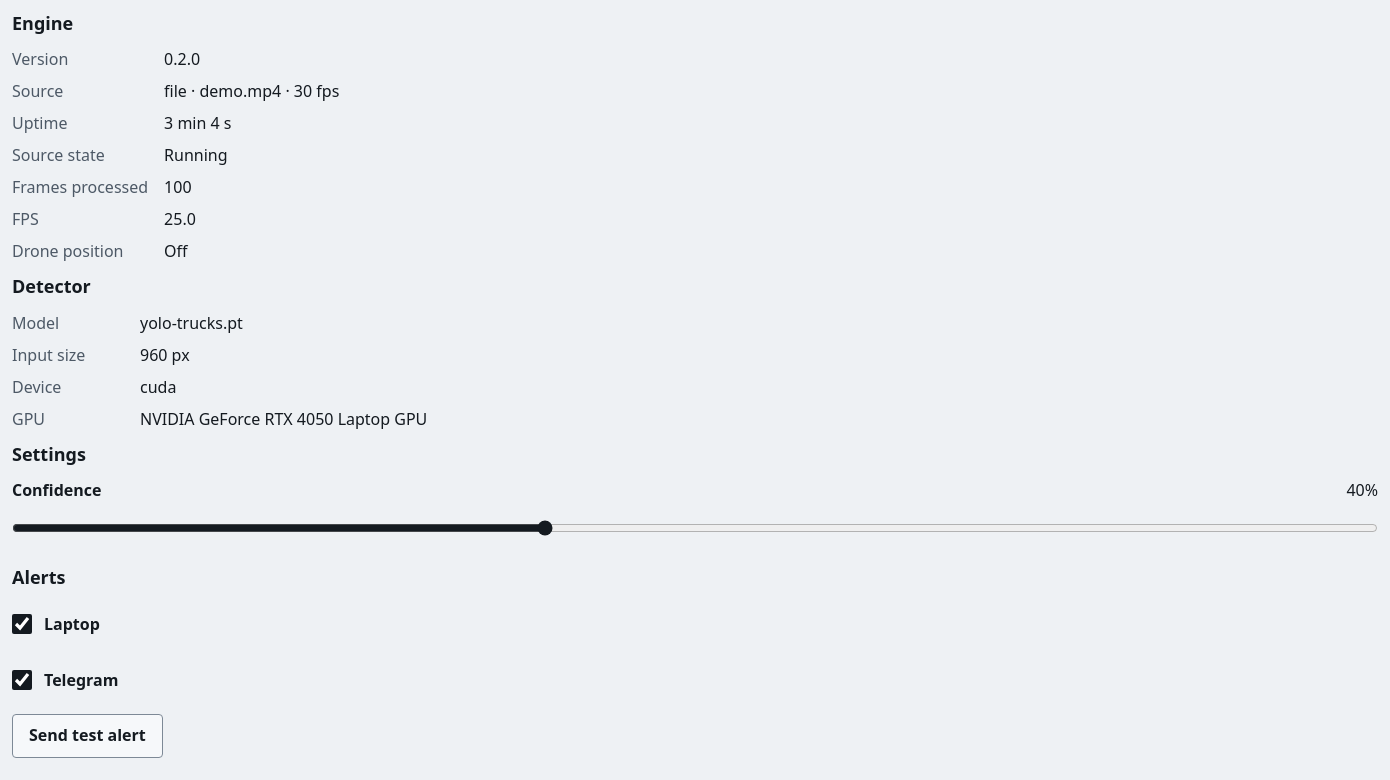
Test: an older response for the same channel cannot overwrite a newer choice
This screenshot has width=1390, height=780.
Click the switch labelled "Telegram" at x=22, y=680, box x1=12 y1=670 x2=32 y2=690
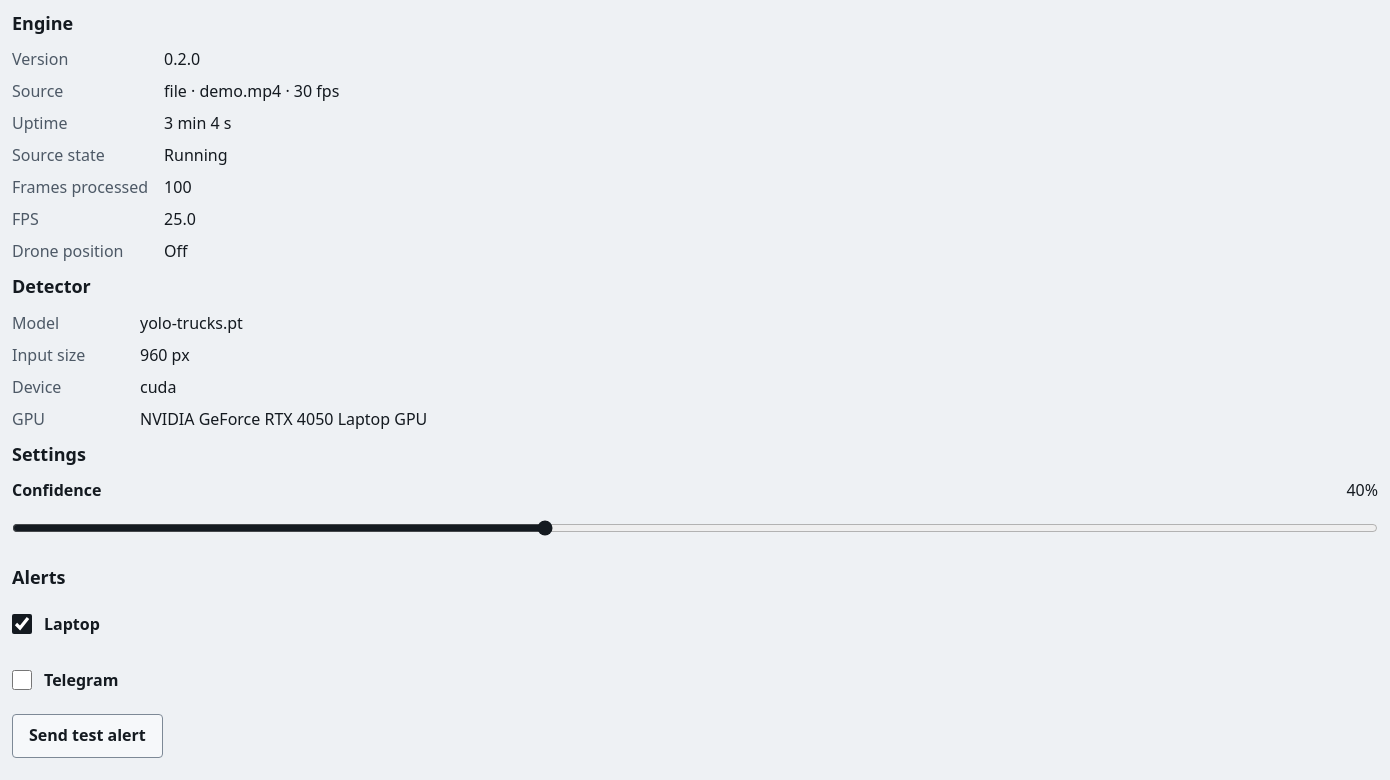
Click the switch labelled "Telegram" at x=22, y=680, box x1=12 y1=670 x2=32 y2=690
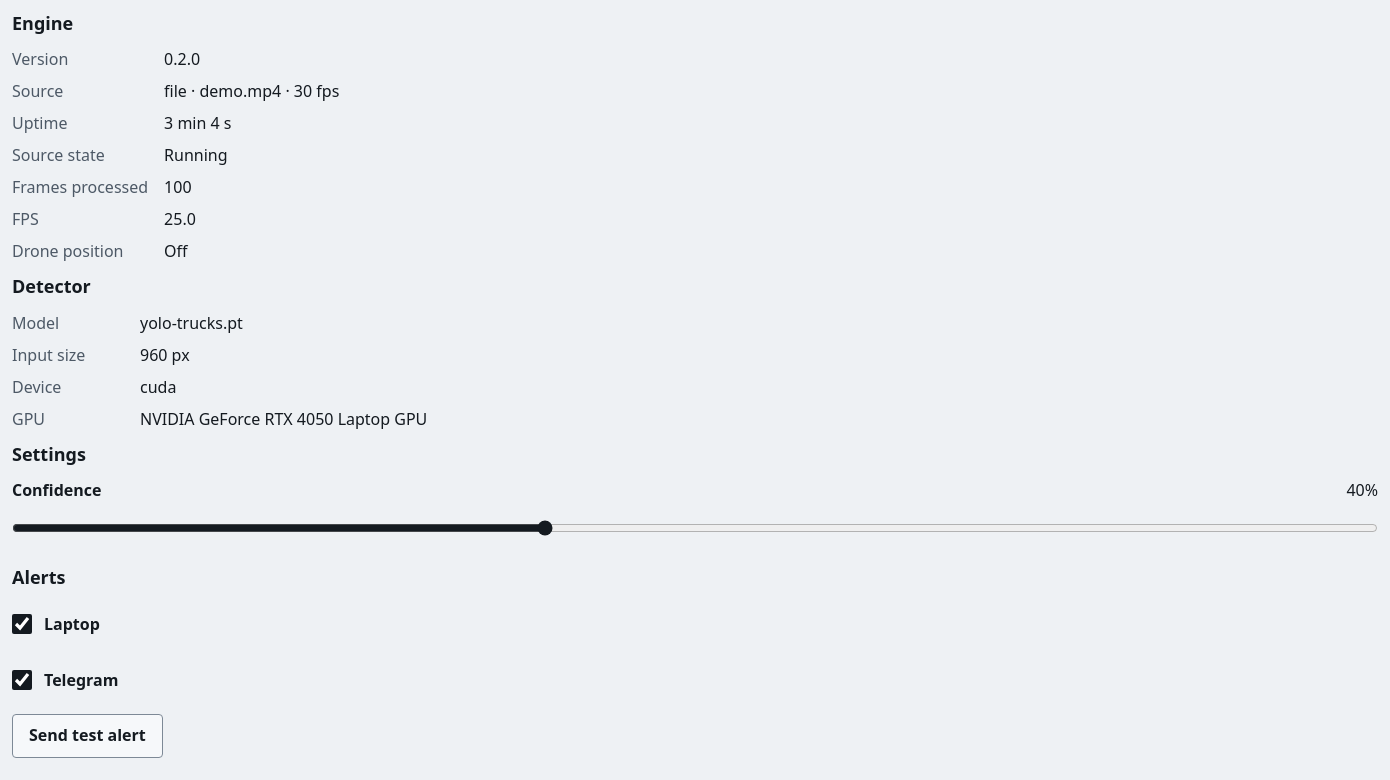
Expected: the switch labelled "Telegram" is checked, x1=12 y1=670 x2=32 y2=690
